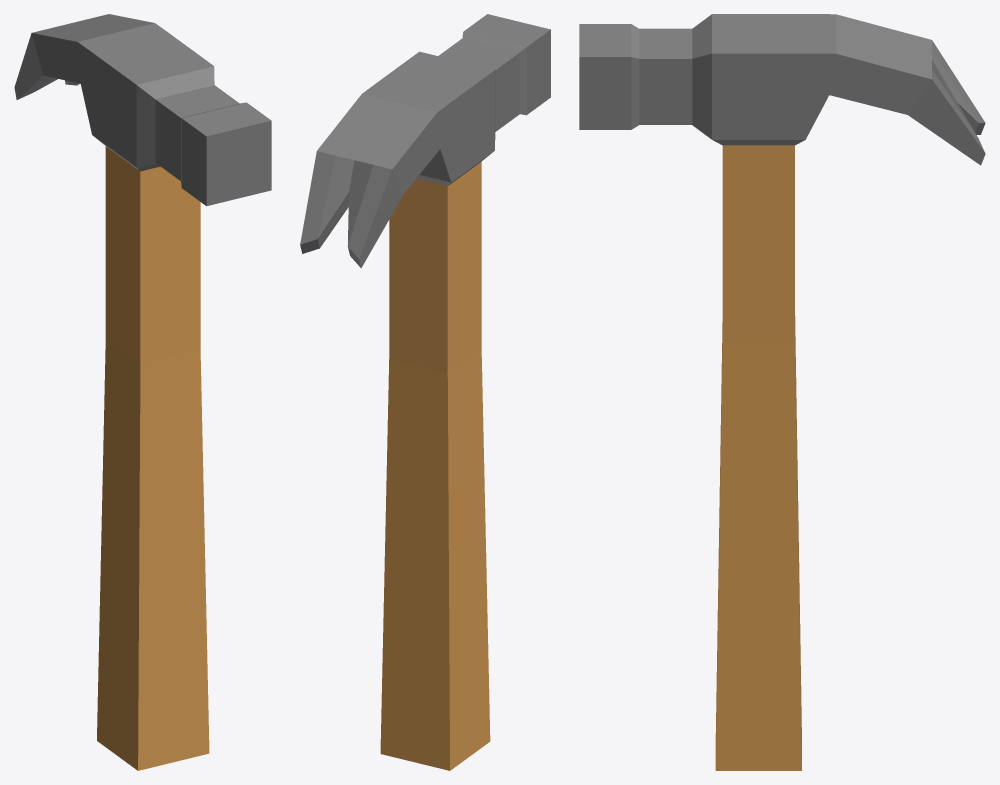
File: claw_hammer.fbx
3 views of the same model, side by side, from view 1: azimuth 30°, elevation 25°; view 2: azimuth 150°, elevation 25°; view 3: azimuth 270°, elevation 25° (orthographic). The views are drawn at different scales.
Parts seen in each view (by area): view 1: Claw Hammer; view 2: Claw Hammer; view 3: Claw Hammer.
Part boxes in pixels (left/top/right/bottom): Claw Hammer: left=14, top=14, right=271, bottom=770; Claw Hammer: left=300, top=14, right=550, bottom=770; Claw Hammer: left=579, top=14, right=985, bottom=770.
Bounding box in the file's own units: 14 × 119 × 60.86.
